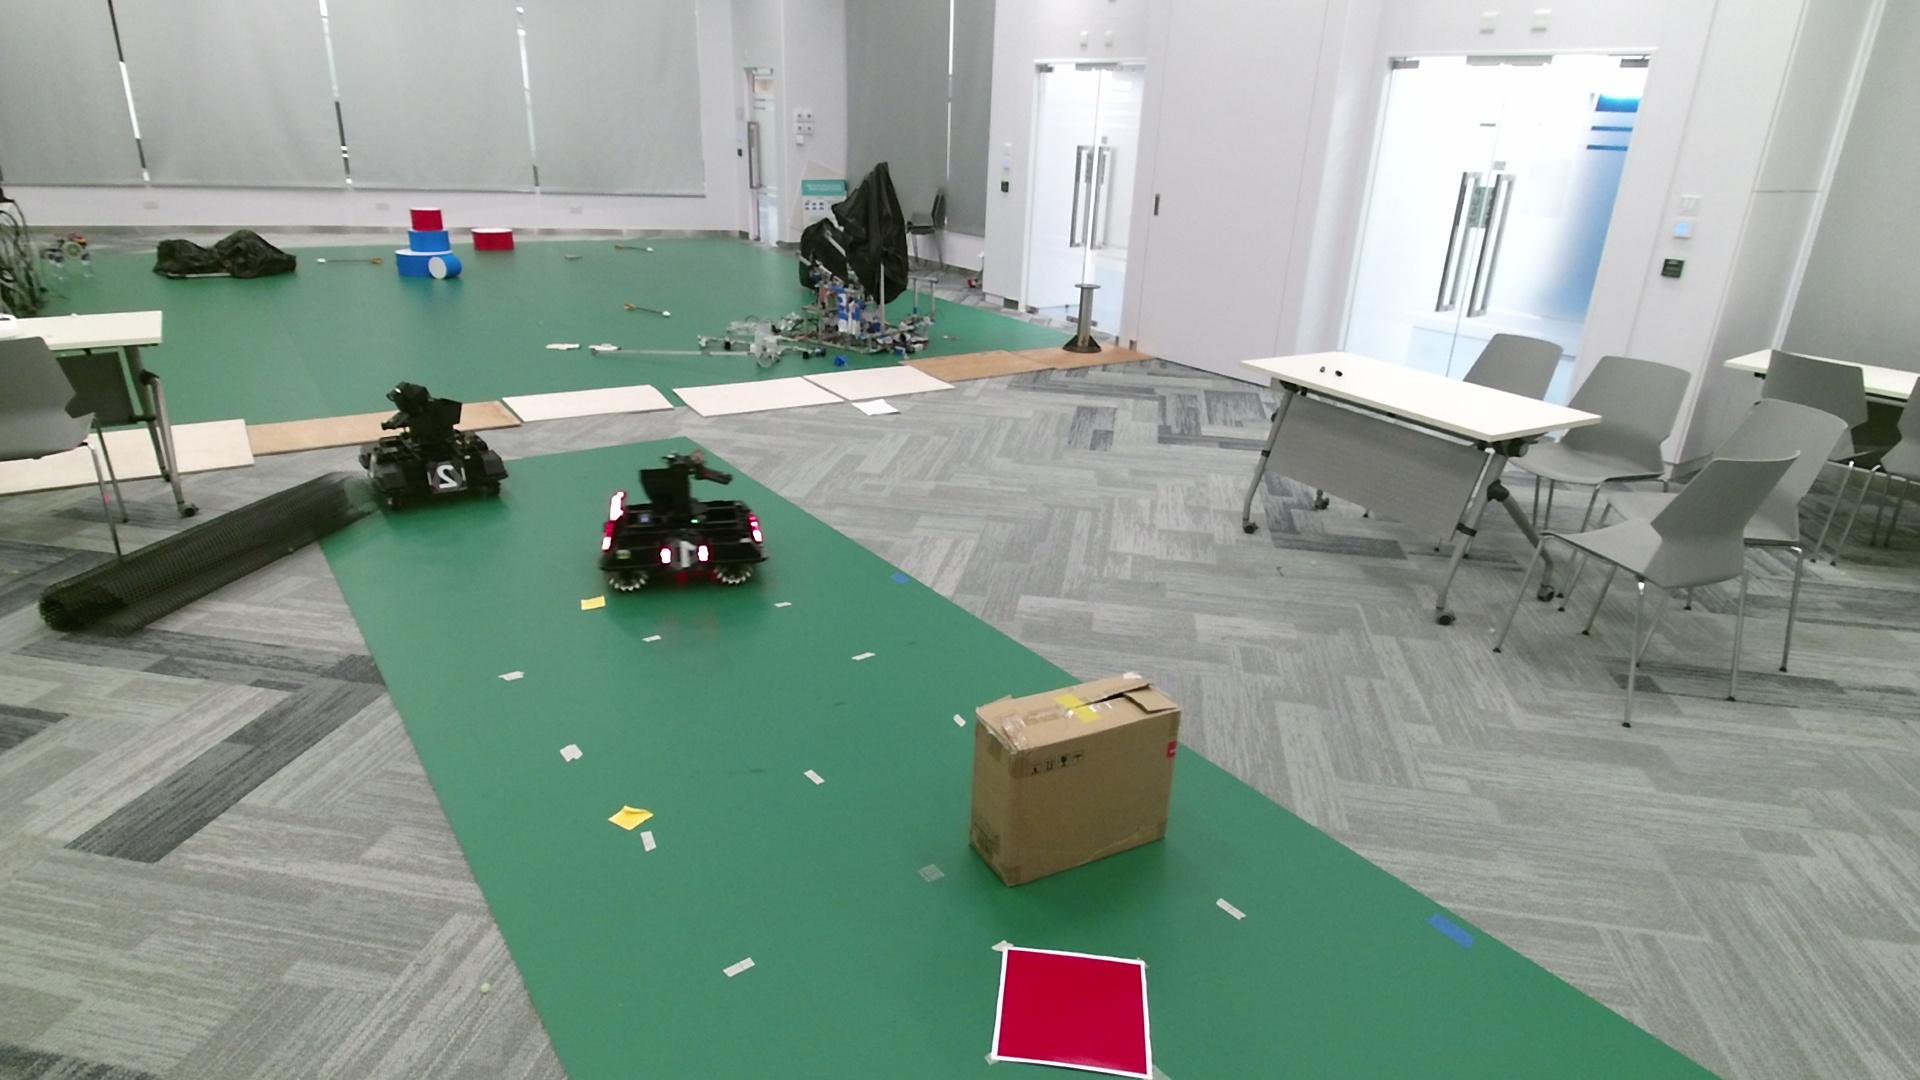robot: (596, 448, 767, 593), (357, 380, 508, 512)
